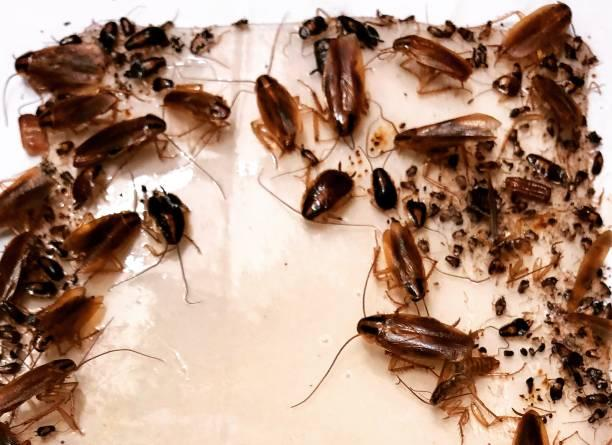cockroach: (1, 2, 610, 443), (288, 272, 464, 409), (209, 49, 333, 215), (0, 326, 168, 442), (97, 179, 235, 307), (286, 6, 405, 153), (328, 209, 461, 336), (50, 102, 232, 187), (8, 264, 142, 367), (33, 192, 173, 289), (142, 73, 277, 167), (499, 53, 605, 168), (365, 25, 479, 116), (475, 0, 602, 77), (1, 25, 127, 102), (367, 107, 482, 182), (263, 163, 371, 238), (10, 78, 140, 136), (0, 144, 64, 246), (347, 149, 426, 228), (497, 392, 581, 445)
